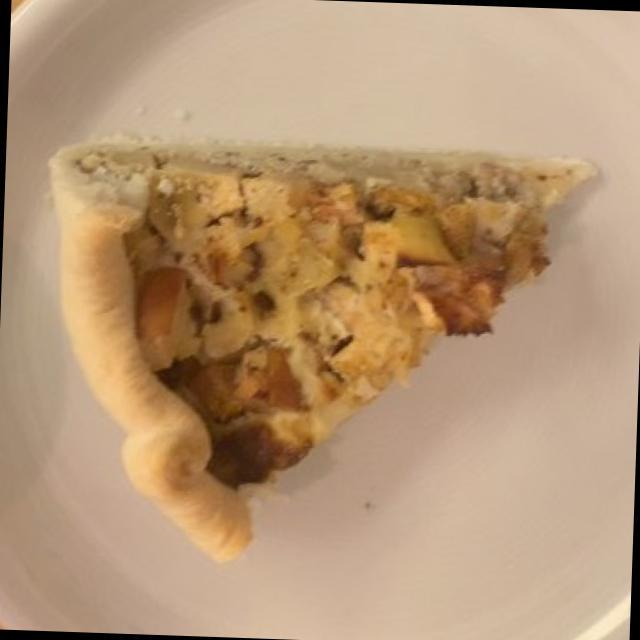Pizza: (25, 113, 604, 582)
